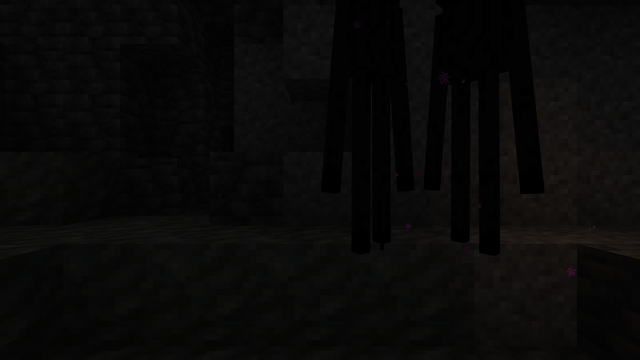endermens: (430, 9, 530, 251), (338, 9, 413, 251)
